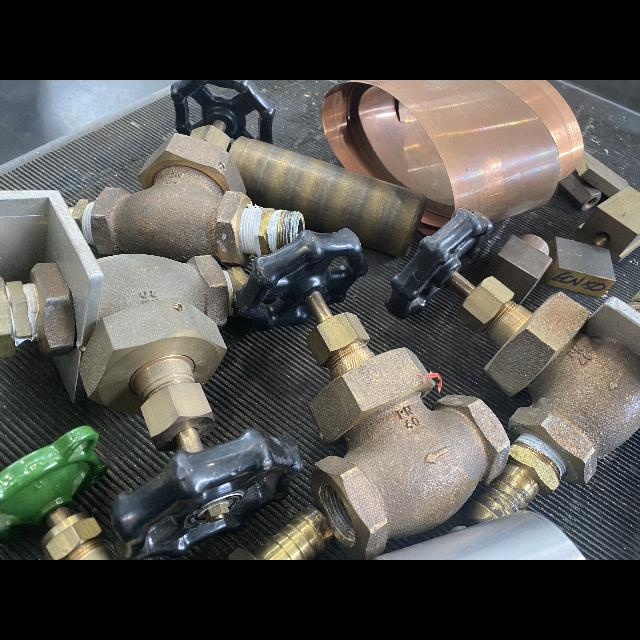Aluminium: (0, 191, 103, 345), (373, 511, 585, 560), (584, 297, 640, 355), (53, 348, 86, 402)
Brass: (306, 292, 511, 560), (446, 272, 640, 484), (78, 254, 229, 452), (90, 120, 251, 268), (229, 137, 426, 257), (466, 442, 559, 523), (228, 506, 333, 560), (575, 186, 640, 263), (30, 262, 75, 357), (42, 507, 115, 560), (575, 150, 629, 197), (560, 170, 601, 212), (6, 280, 32, 339), (0, 276, 16, 358), (277, 211, 305, 250), (68, 199, 96, 231), (258, 208, 277, 255), (227, 267, 249, 293), (205, 504, 228, 522), (626, 290, 640, 312)
Copper: (321, 80, 583, 225)
Ferrous Metal: (113, 429, 303, 559), (235, 229, 368, 330), (385, 208, 493, 318), (0, 426, 106, 535), (170, 80, 275, 143), (483, 234, 552, 303), (545, 237, 615, 297)
